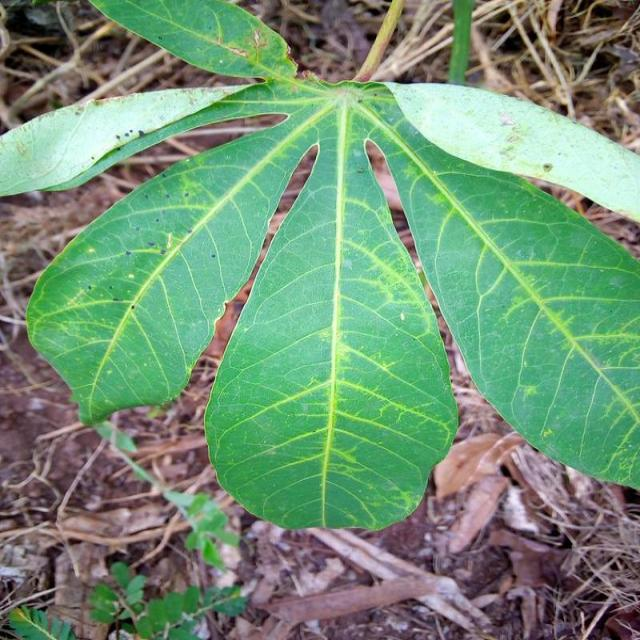cassava leaf: (23, 75, 638, 529), (359, 84, 639, 492), (202, 98, 460, 531), (24, 84, 334, 428)
